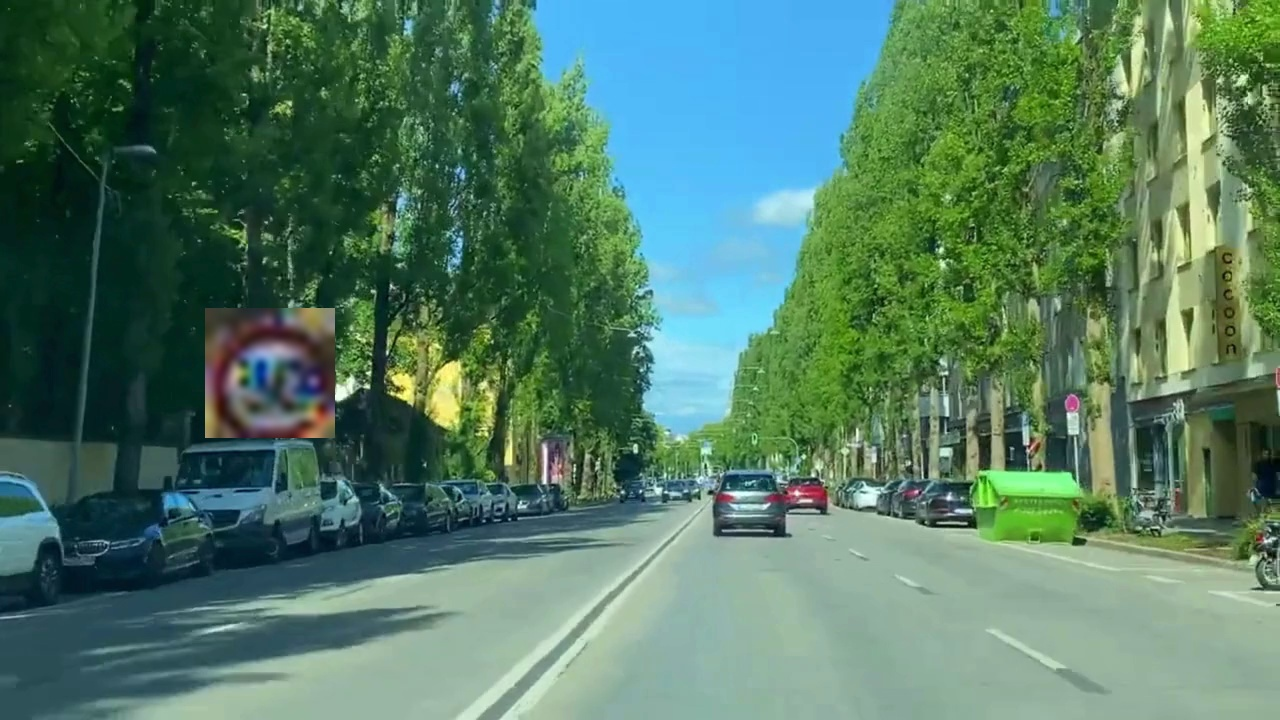Speed 50: (205, 308, 335, 438)
